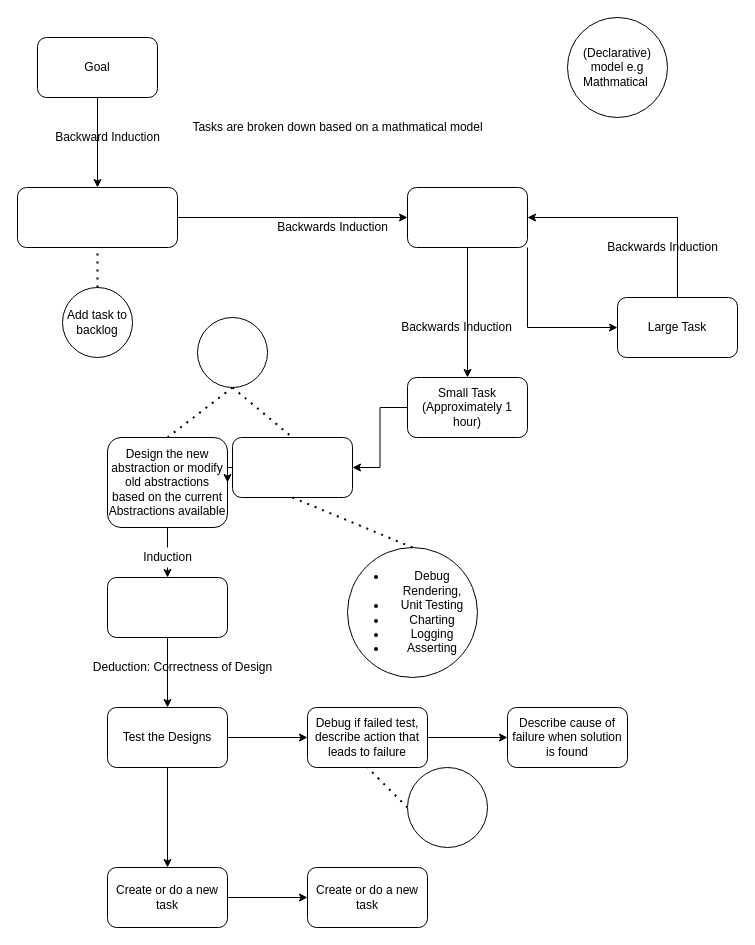
Some shapes in this 755 by 945 pixel diagram are drawn without their labels. Each missing label, with the centre of its shape:
"Break up the task/modification" goes at [467,217].
"Consider Improving tests, for lower level tasks" goes at [447,807].
"Create a way to test the solution, based on existed and trusted abstractions" goes at [292,467].
"Implement the designs" goes at [167,607].
"Technically documented" goes at [232,352].
"Think of a Game/Engine/Development Task or Rule" goes at [97,217].
